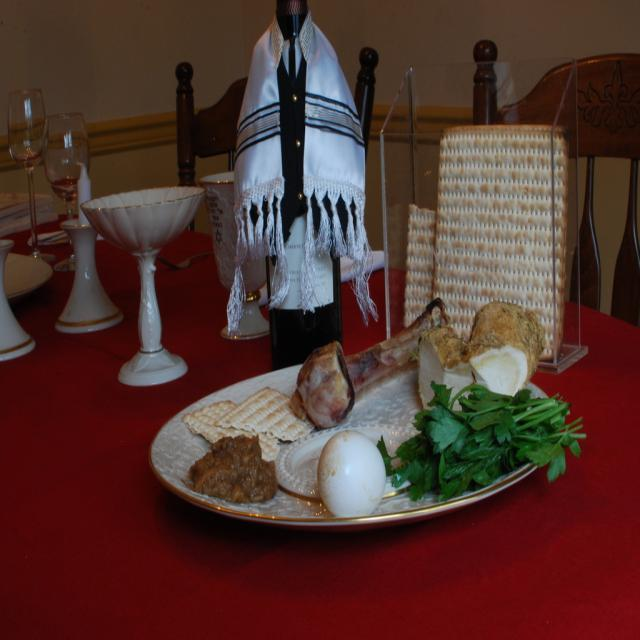non-organic waste: (147, 320, 569, 538)
